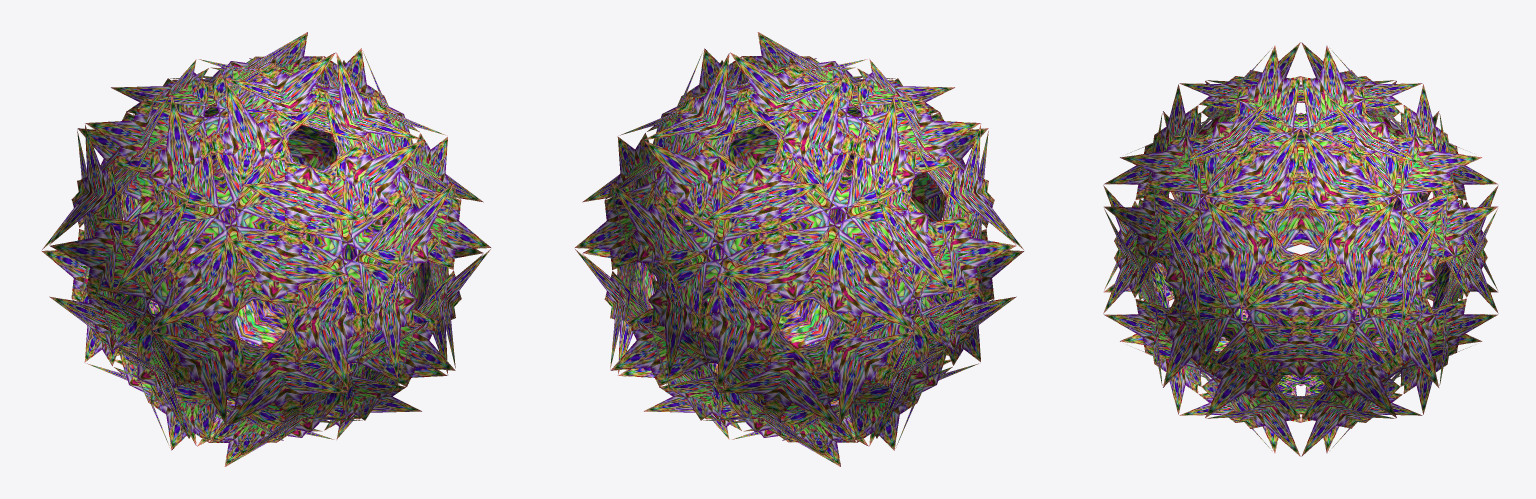
The model's file is 24MedialIcosacronicHexecontahedron.gltf.
3 views of the same model, side by side, from view 1: azimuth 30°, elevation 25°; view 2: azimuth 150°, elevation 25°; view 3: azimuth 270°, elevation 25° (orthographic). The views are drawn at different scales.
Visible parts, largest first — view 1: MedialIcosacronicHexecontahedron9; view 2: MedialIcosacronicHexecontahedron9; view 3: MedialIcosacronicHexecontahedron9.
Part boxes in pixels (x1=…): MedialIcosacronicHexecontahedron9: x1=42, y1=32, x2=490, y2=466; MedialIcosacronicHexecontahedron9: x1=575, y1=32, x2=1023, y2=466; MedialIcosacronicHexecontahedron9: x1=1103, y1=42, x2=1498, y2=456.
Bounding box in the file's own units: 3.24 × 3.24 × 3.24.
Materials: 1 (1 with a texture image).
